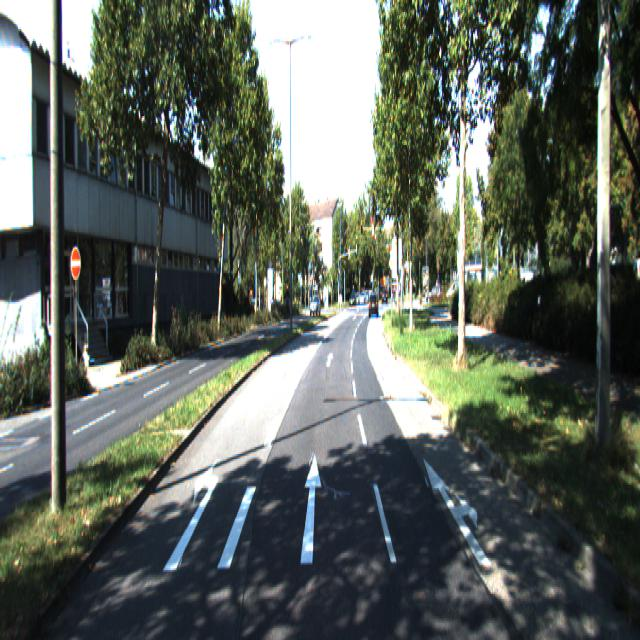Car: (369, 292, 379, 317)
